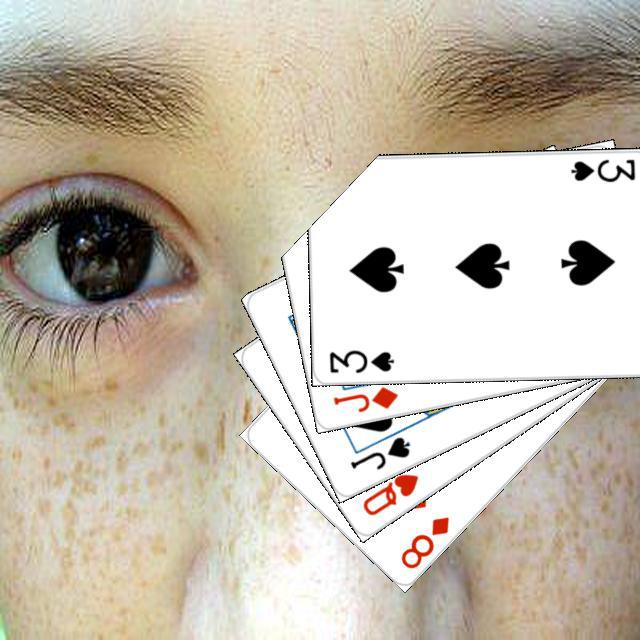3s: (324, 345, 396, 375), (566, 154, 637, 184)
8d: (395, 511, 451, 571)
Jd: (328, 381, 400, 414)
Js: (345, 431, 412, 472)
Qh: (357, 468, 420, 518)
